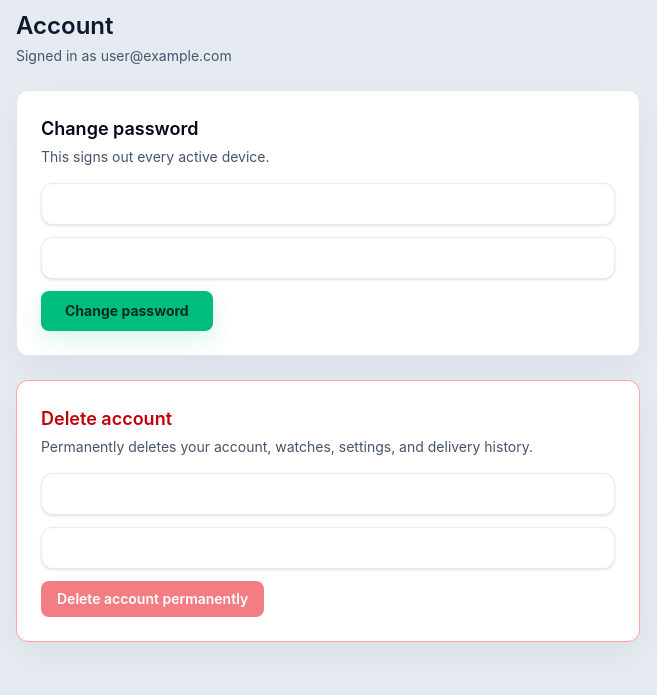
it: AccountSettings › surfaces password-change API errors without signing the user out
In the password field named "Current password": (328, 204) [41,183,615,225], type "wrong-password"
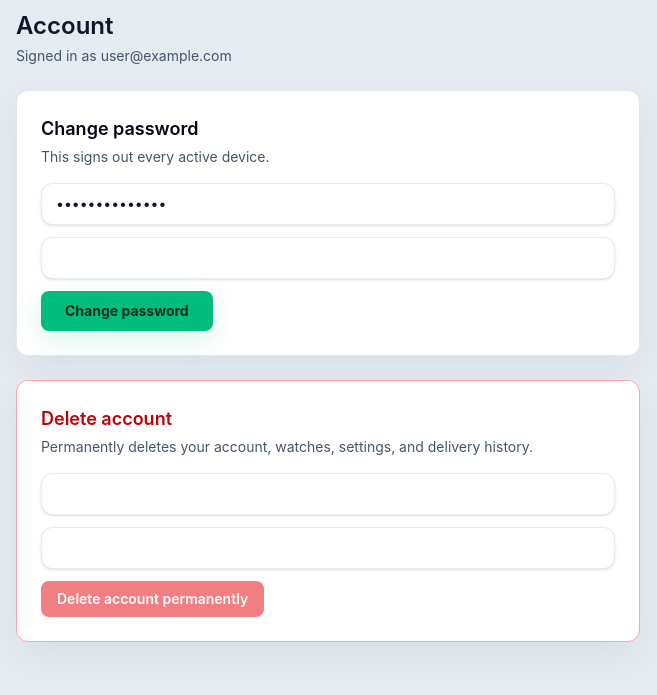
In the password field named "New password": (328, 258) [41,237,615,279], type "new-password-123"
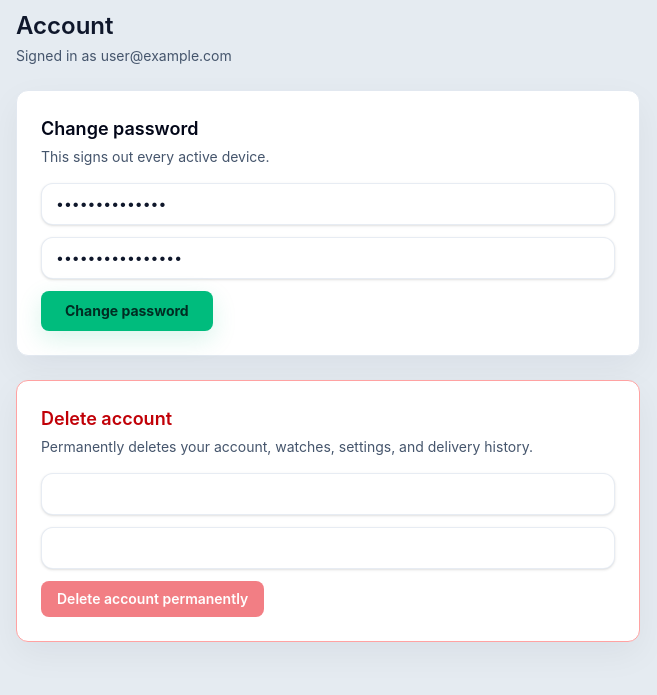
Click the button "Change password": (127, 311) [41,291,213,331]
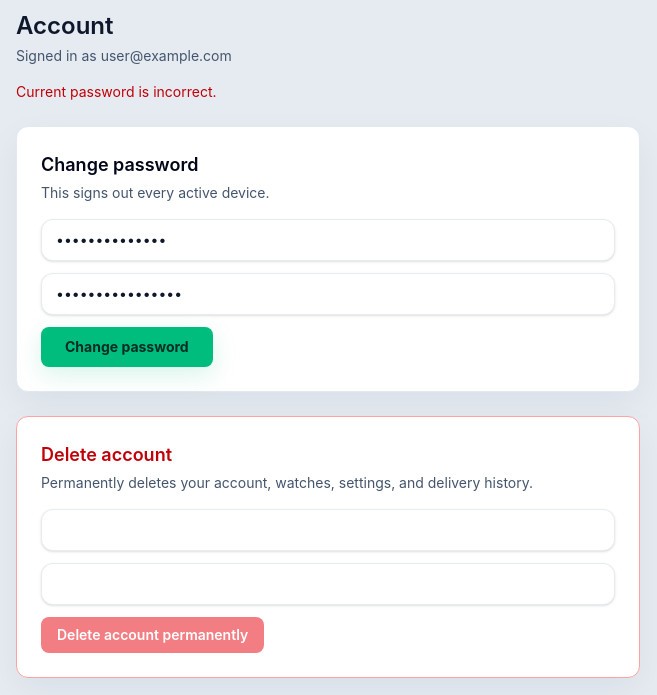
Check: the message reads "Current password is incorrect.", box [16,83,217,100]
